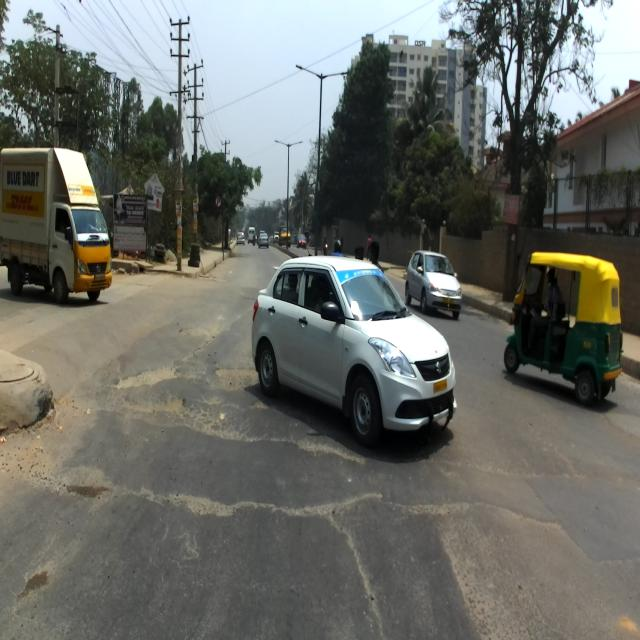auto ahead at: (498, 250, 625, 419)
car ahead at: (250, 259, 460, 447), (5, 143, 114, 306)
electric pole ahead at: (165, 10, 193, 277)
